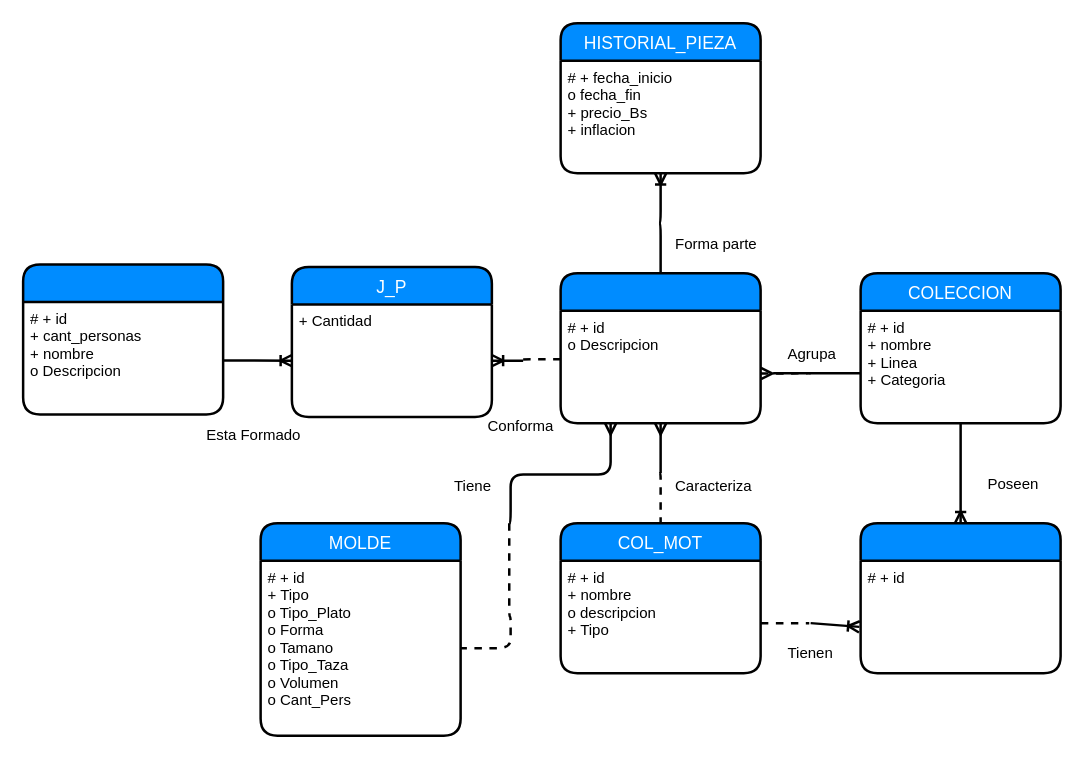
Some shapes in this 1083 by 758 pixel diagram are drawn without their labels. Each missing label, with the box of its shape:
C-M: (859, 521, 1061, 674)
JUEGO: (21, 262, 224, 415)
PIEZA: (559, 271, 761, 424)
